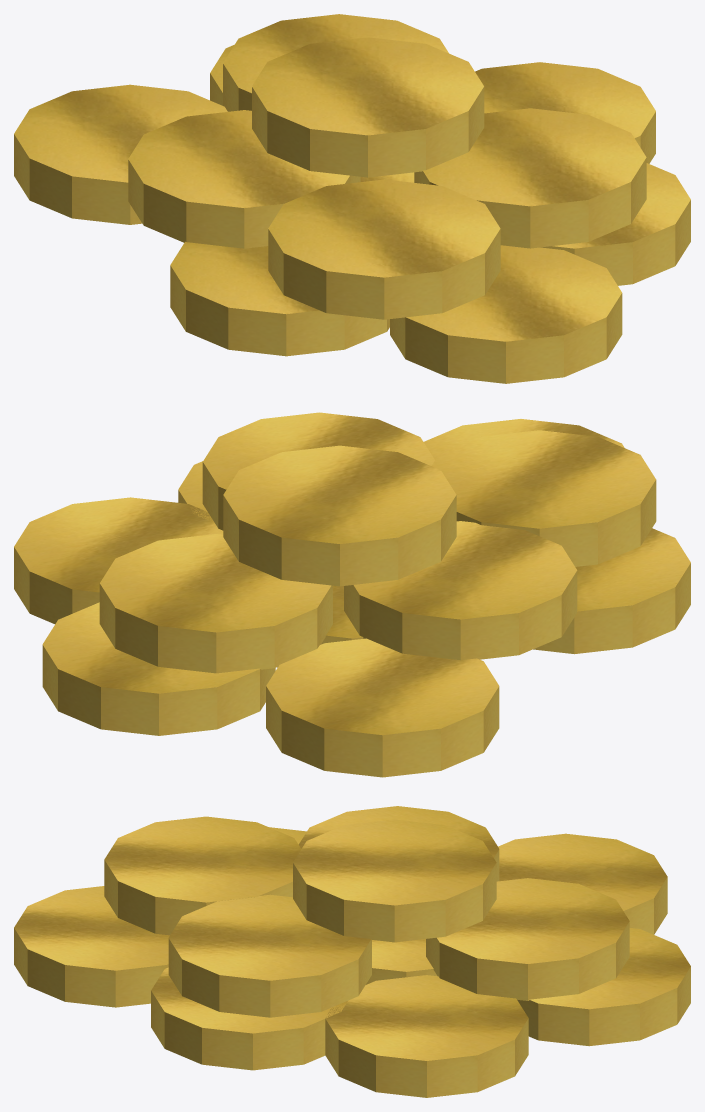
Rendered from Geld.fbx.
3 views of the same model, one above another, from view 1: azimuth 30°, elevation 25°; view 2: azimuth 150°, elevation 25°; view 3: azimuth 270°, elevation 25° (orthographic). The views are drawn at different scales.
Visible parts, largest first — view 1: Cylinder.008; view 2: Cylinder.008; view 3: Cylinder.008.
Part boxes in pixels (x1,y1,x2,y2): Cylinder.008: (14, 14, 690, 383); Cylinder.008: (14, 412, 690, 777); Cylinder.008: (14, 806, 690, 1097).
Size of the model in its own units: 26.46 by 5.84 by 32.24.
